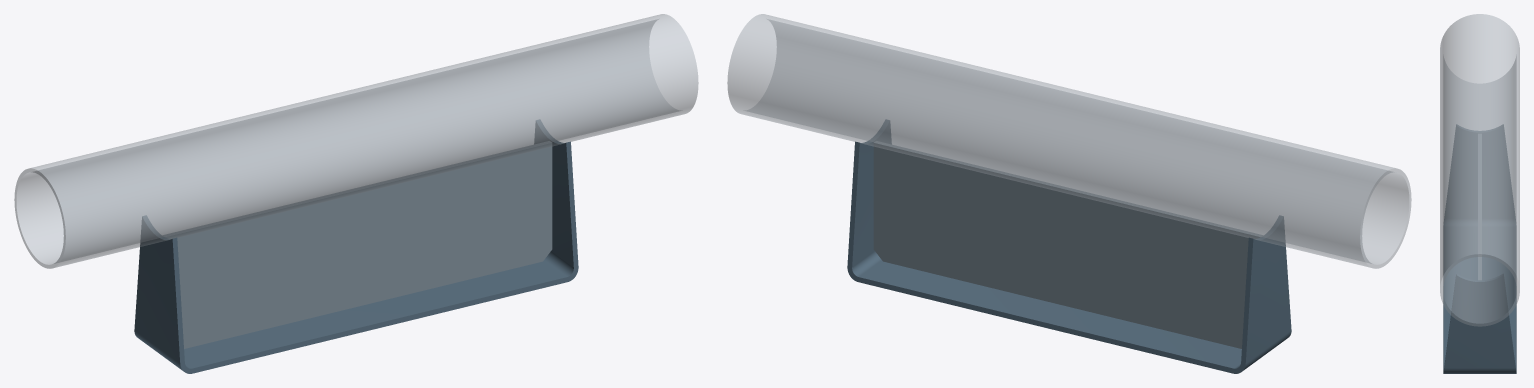
Rendered from TS-623.000-15-opora-dn76-H100-L340.glb.
3 renders of one model, left to right at view 1: azimuth 30°, elevation 25°; view 2: azimuth 150°, elevation 25°; view 3: azimuth 270°, elevation 25°, orthographic. The views are drawn at different scales.
Visible parts, largest first — view 1: truba, rebro, skoba; view 2: truba, rebro, skoba; view 3: truba, skoba, rebro.
Boxes of the visible parts, box(x1,y1,x2,y2) form: truba: box(14, 14, 698, 268); rebro: box(163, 141, 552, 348); skoba: box(134, 119, 578, 373); truba: box(727, 14, 1411, 268); rebro: box(873, 141, 1262, 348); skoba: box(847, 119, 1291, 373); truba: box(1440, 14, 1519, 326); skoba: box(1443, 124, 1516, 373); rebro: box(1478, 134, 1481, 280).
Bounding box in the file's own units: 540 × 176 × 76.
